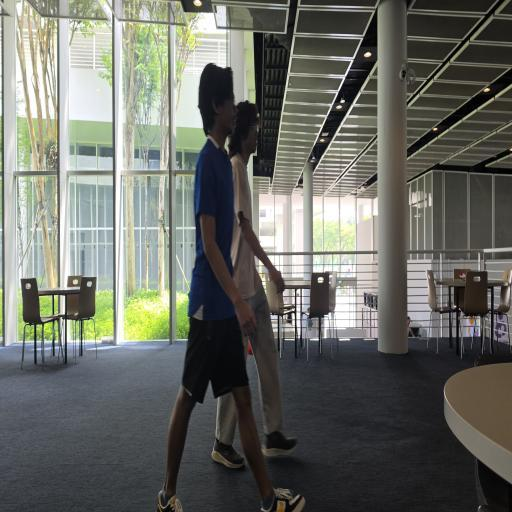person_right: (161, 42, 246, 512), (216, 92, 297, 460)
